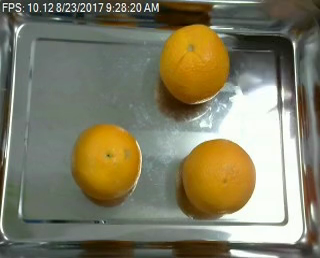Orange: (158, 24, 229, 104), (181, 139, 256, 214), (71, 123, 143, 201)
